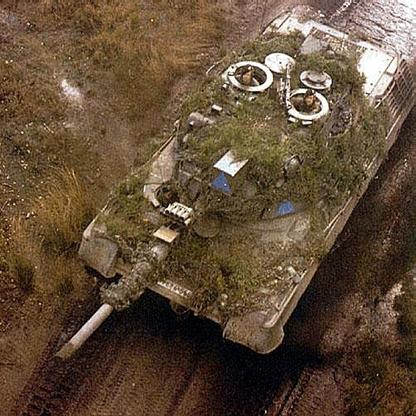Tank: (83, 8, 415, 363)
